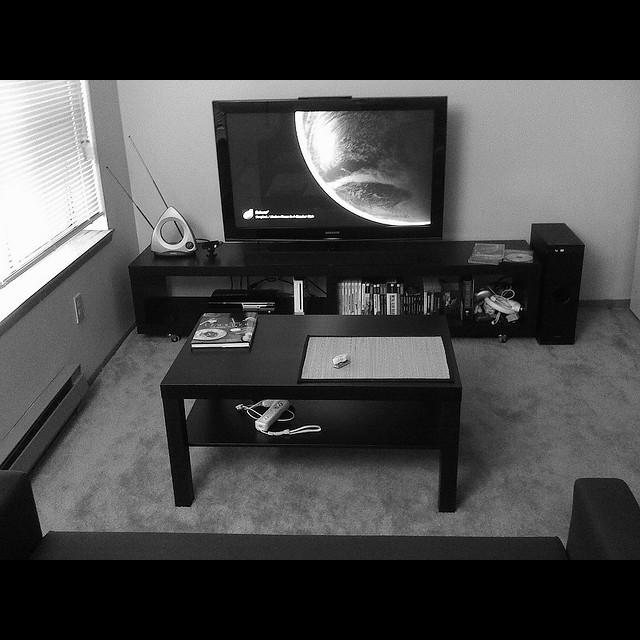Flat-Panel-TV: (213, 96, 448, 242)
